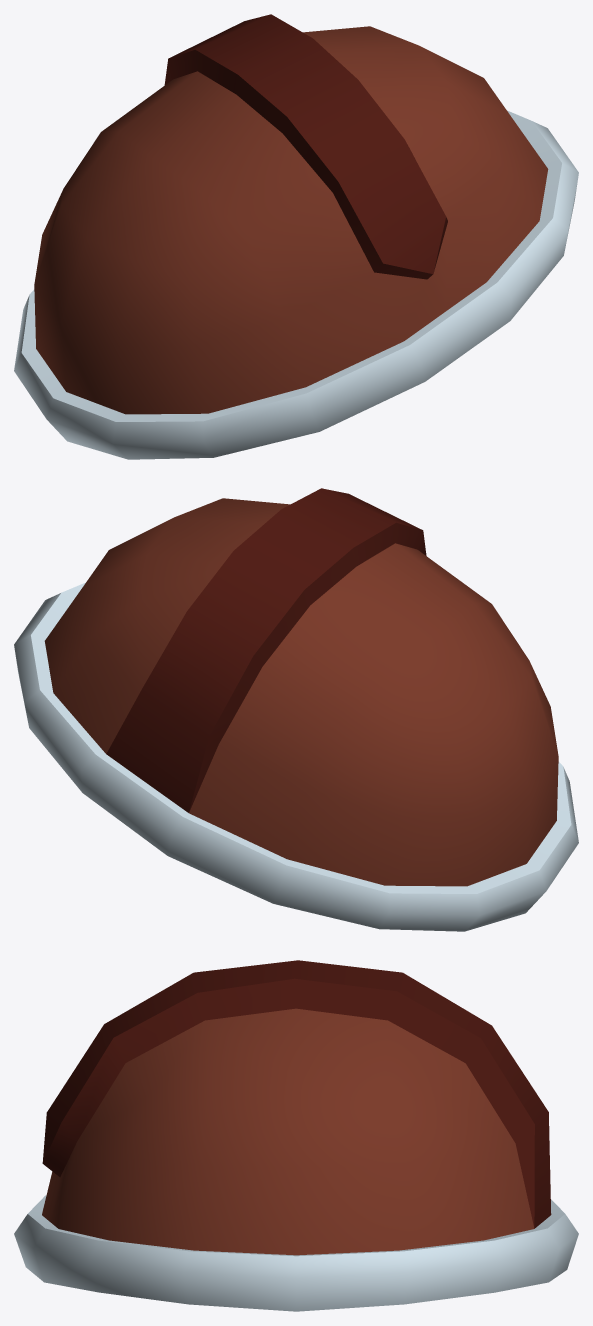
The model's file is shoulderR.glb.
The picture shows the model from 3 angles, top to bottom: view 1: azimuth 30°, elevation 25°; view 2: azimuth 150°, elevation 25°; view 3: azimuth 270°, elevation 25°; orthographic projection. The views are drawn at different scales.
Visible parts, largest first — view 1: fantasyShoulderR; view 2: fantasyShoulderR; view 3: fantasyShoulderR.
Part boxes in pixels (x1=…): fantasyShoulderR: x1=14, y1=14, x2=578, y2=459; fantasyShoulderR: x1=14, y1=488, x2=578, y2=931; fantasyShoulderR: x1=14, y1=960, x2=578, y2=1311.
Size of the model in its own units: 0.4599 by 0.3015 by 0.3938.
